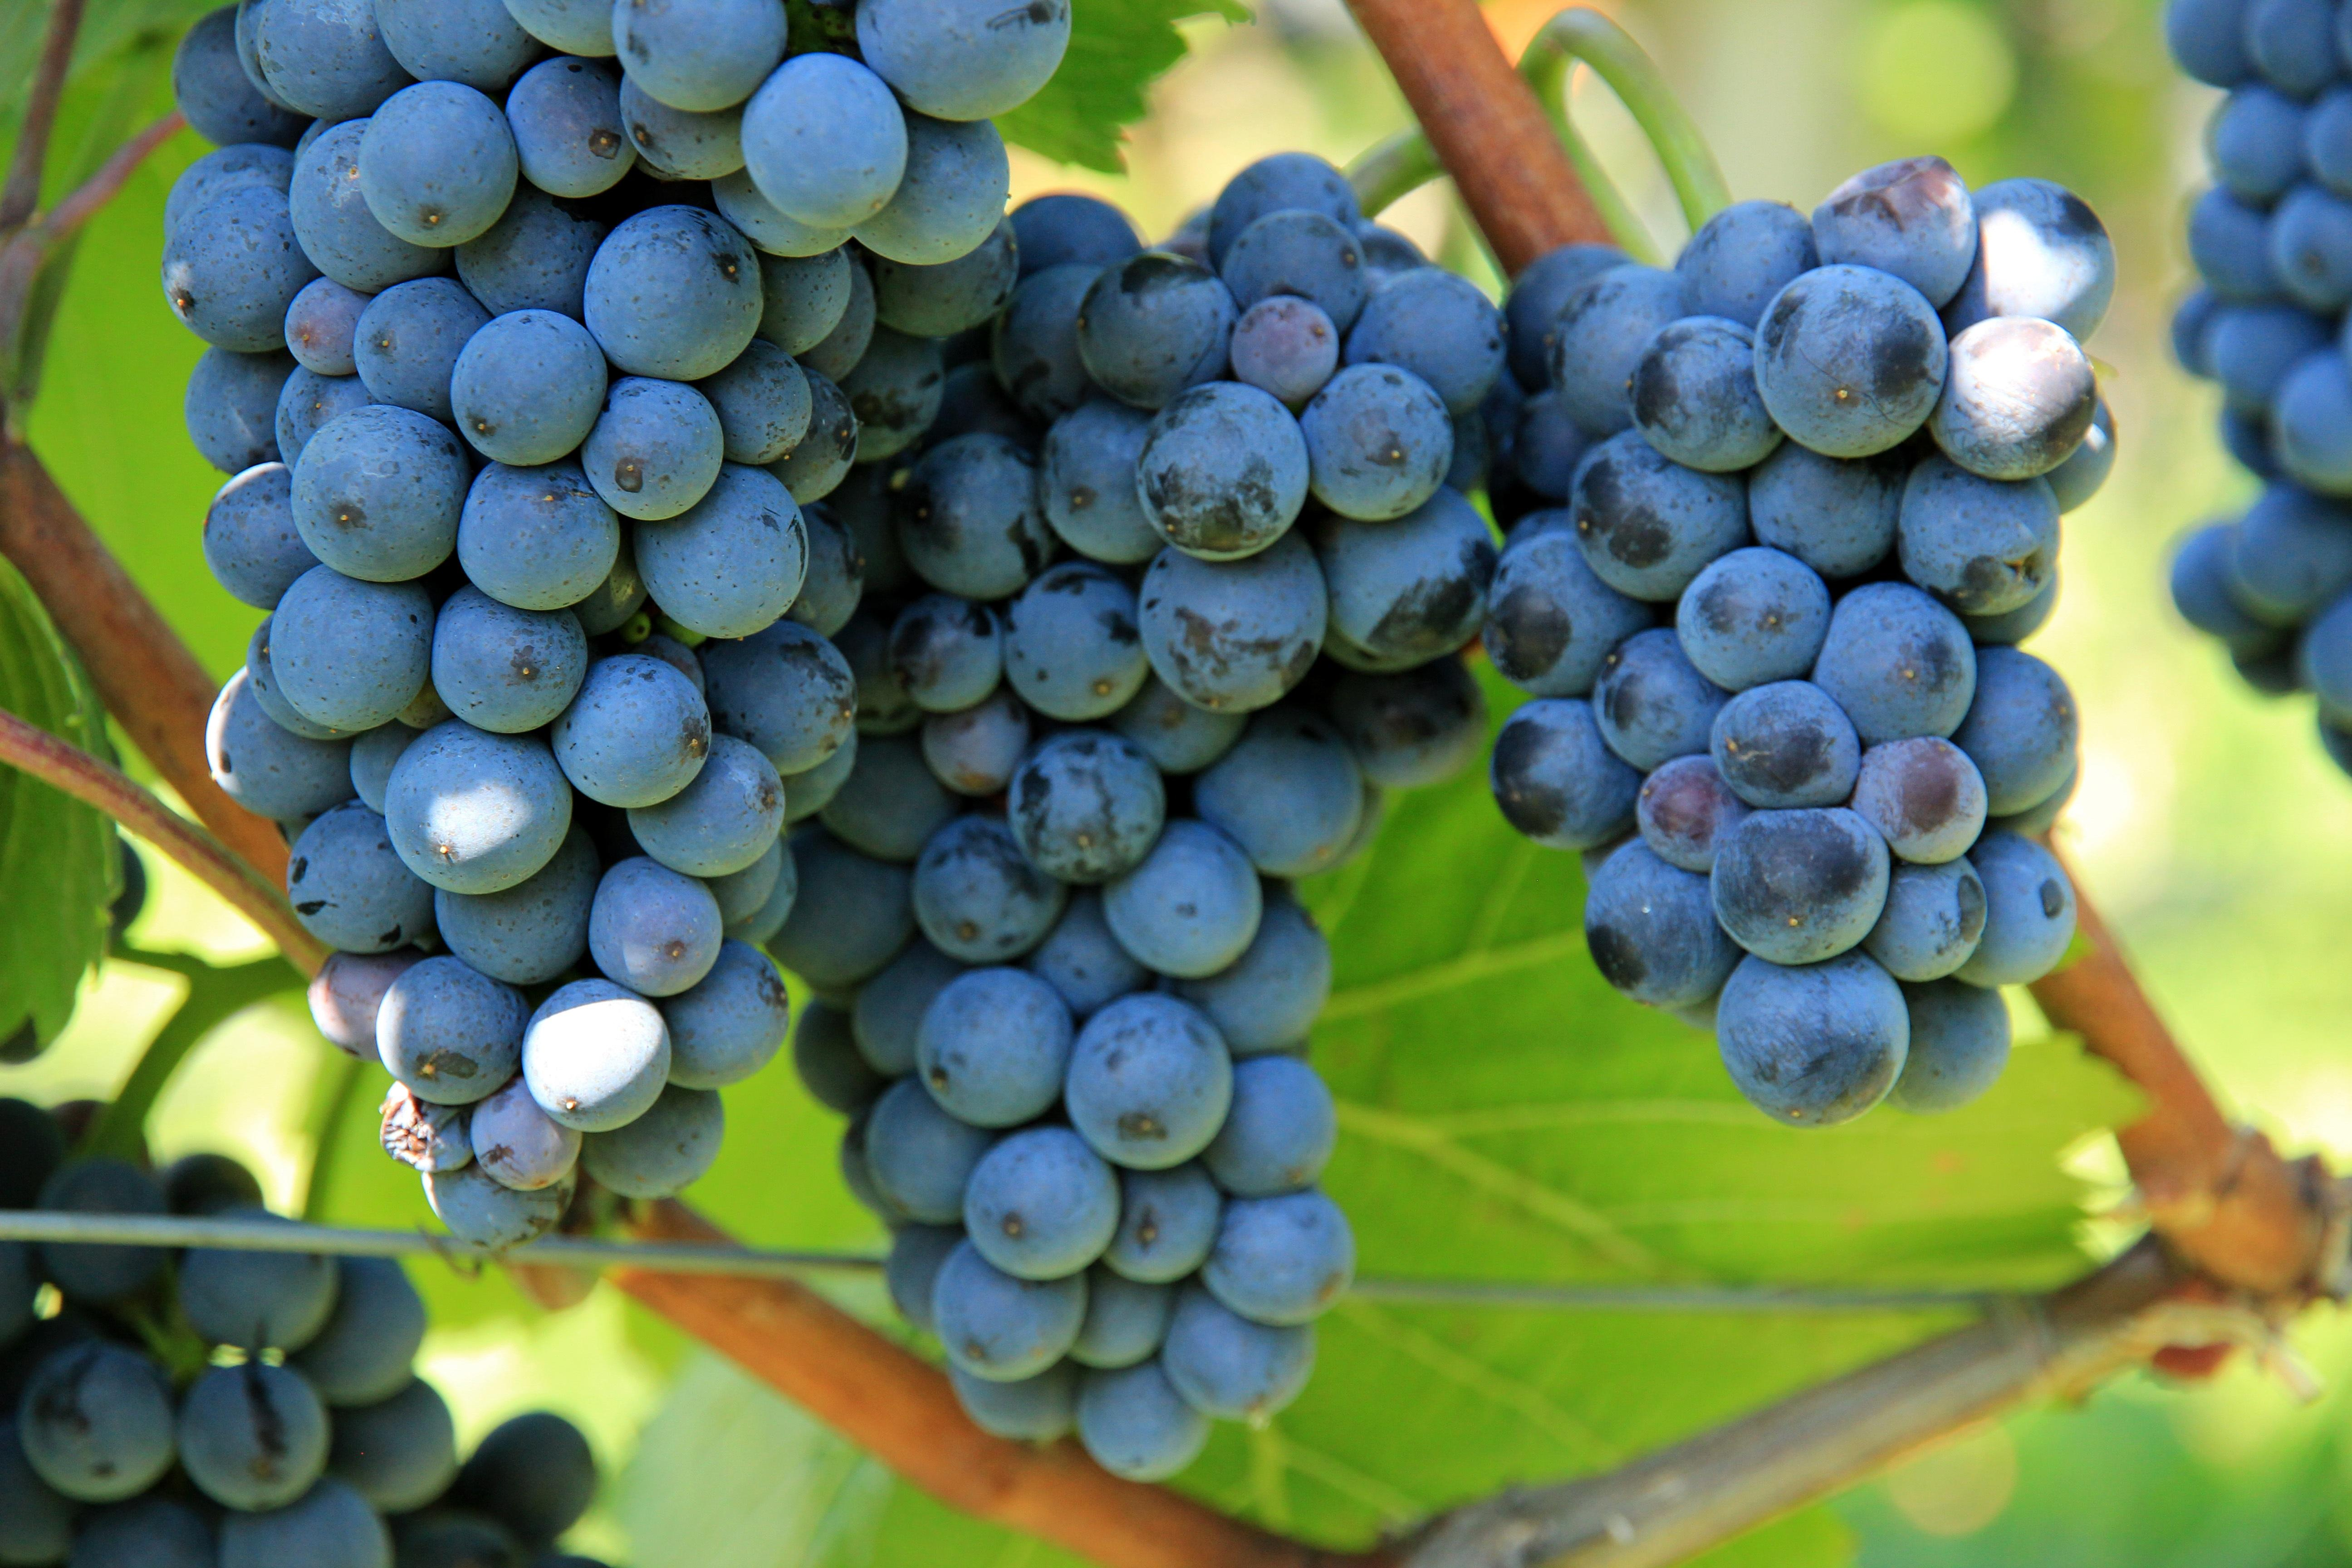grape: (107, 0, 1015, 1269), (837, 182, 1524, 1522), (1524, 138, 2182, 1187)
